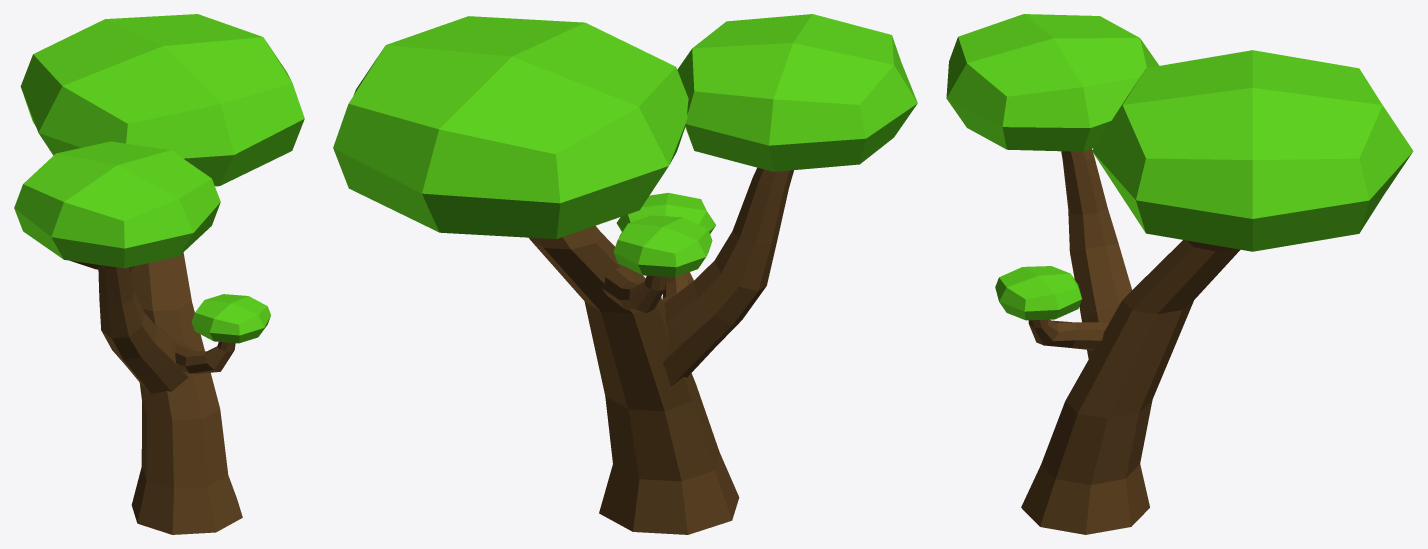
Rendered from boom 3.fbx.
3 views of the same model, side by side, from view 1: azimuth 30°, elevation 25°; view 2: azimuth 150°, elevation 25°; view 3: azimuth 270°, elevation 25° (orthographic). The views are drawn at different scales.
Parts seen in each view (by area): view 1: Boom 3; view 2: Boom 3; view 3: Boom 3.
Boxes of the visible parts, x1=… form: Boom 3: x1=14, y1=14, x2=304, y2=534; Boom 3: x1=333, y1=14, x2=917, y2=534; Boom 3: x1=946, y1=14, x2=1413, y2=534.
Size of the model in its own units: 4.08 by 4.55 by 4.31.
